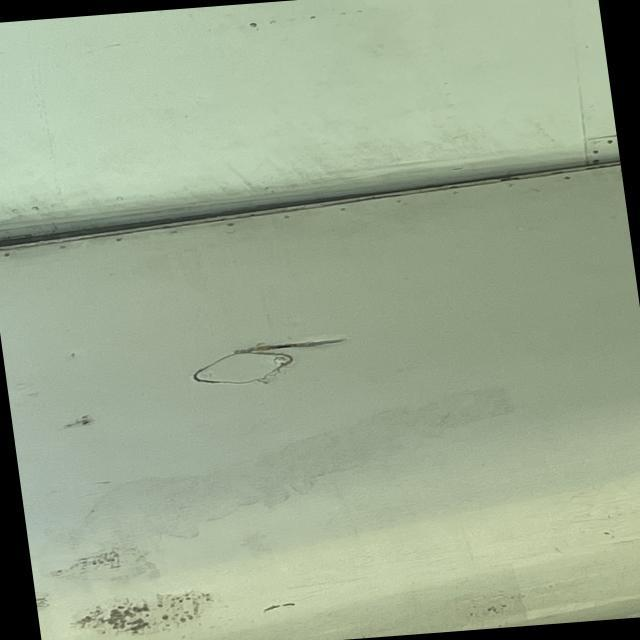crack: (236, 335, 360, 357)
